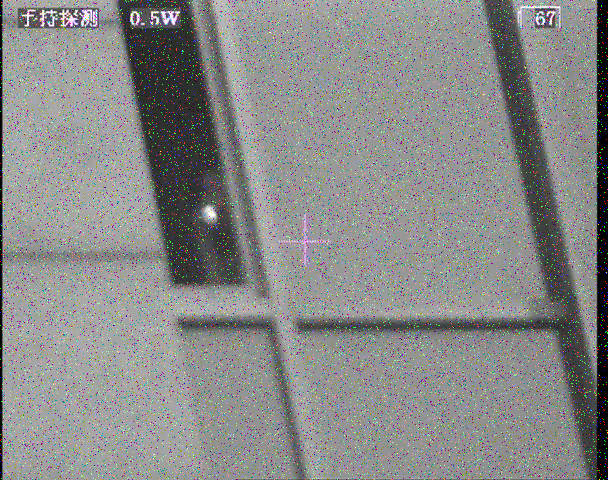my: (201, 204, 220, 225)
